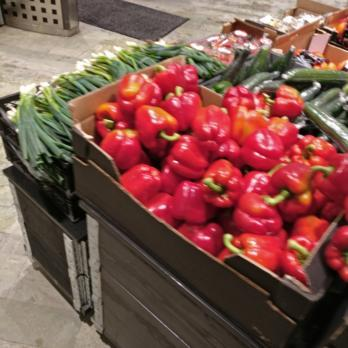Capsicum: (116, 138, 348, 184), (93, 103, 294, 138), (151, 186, 348, 221), (120, 61, 202, 110), (183, 228, 324, 245), (245, 250, 313, 282)
